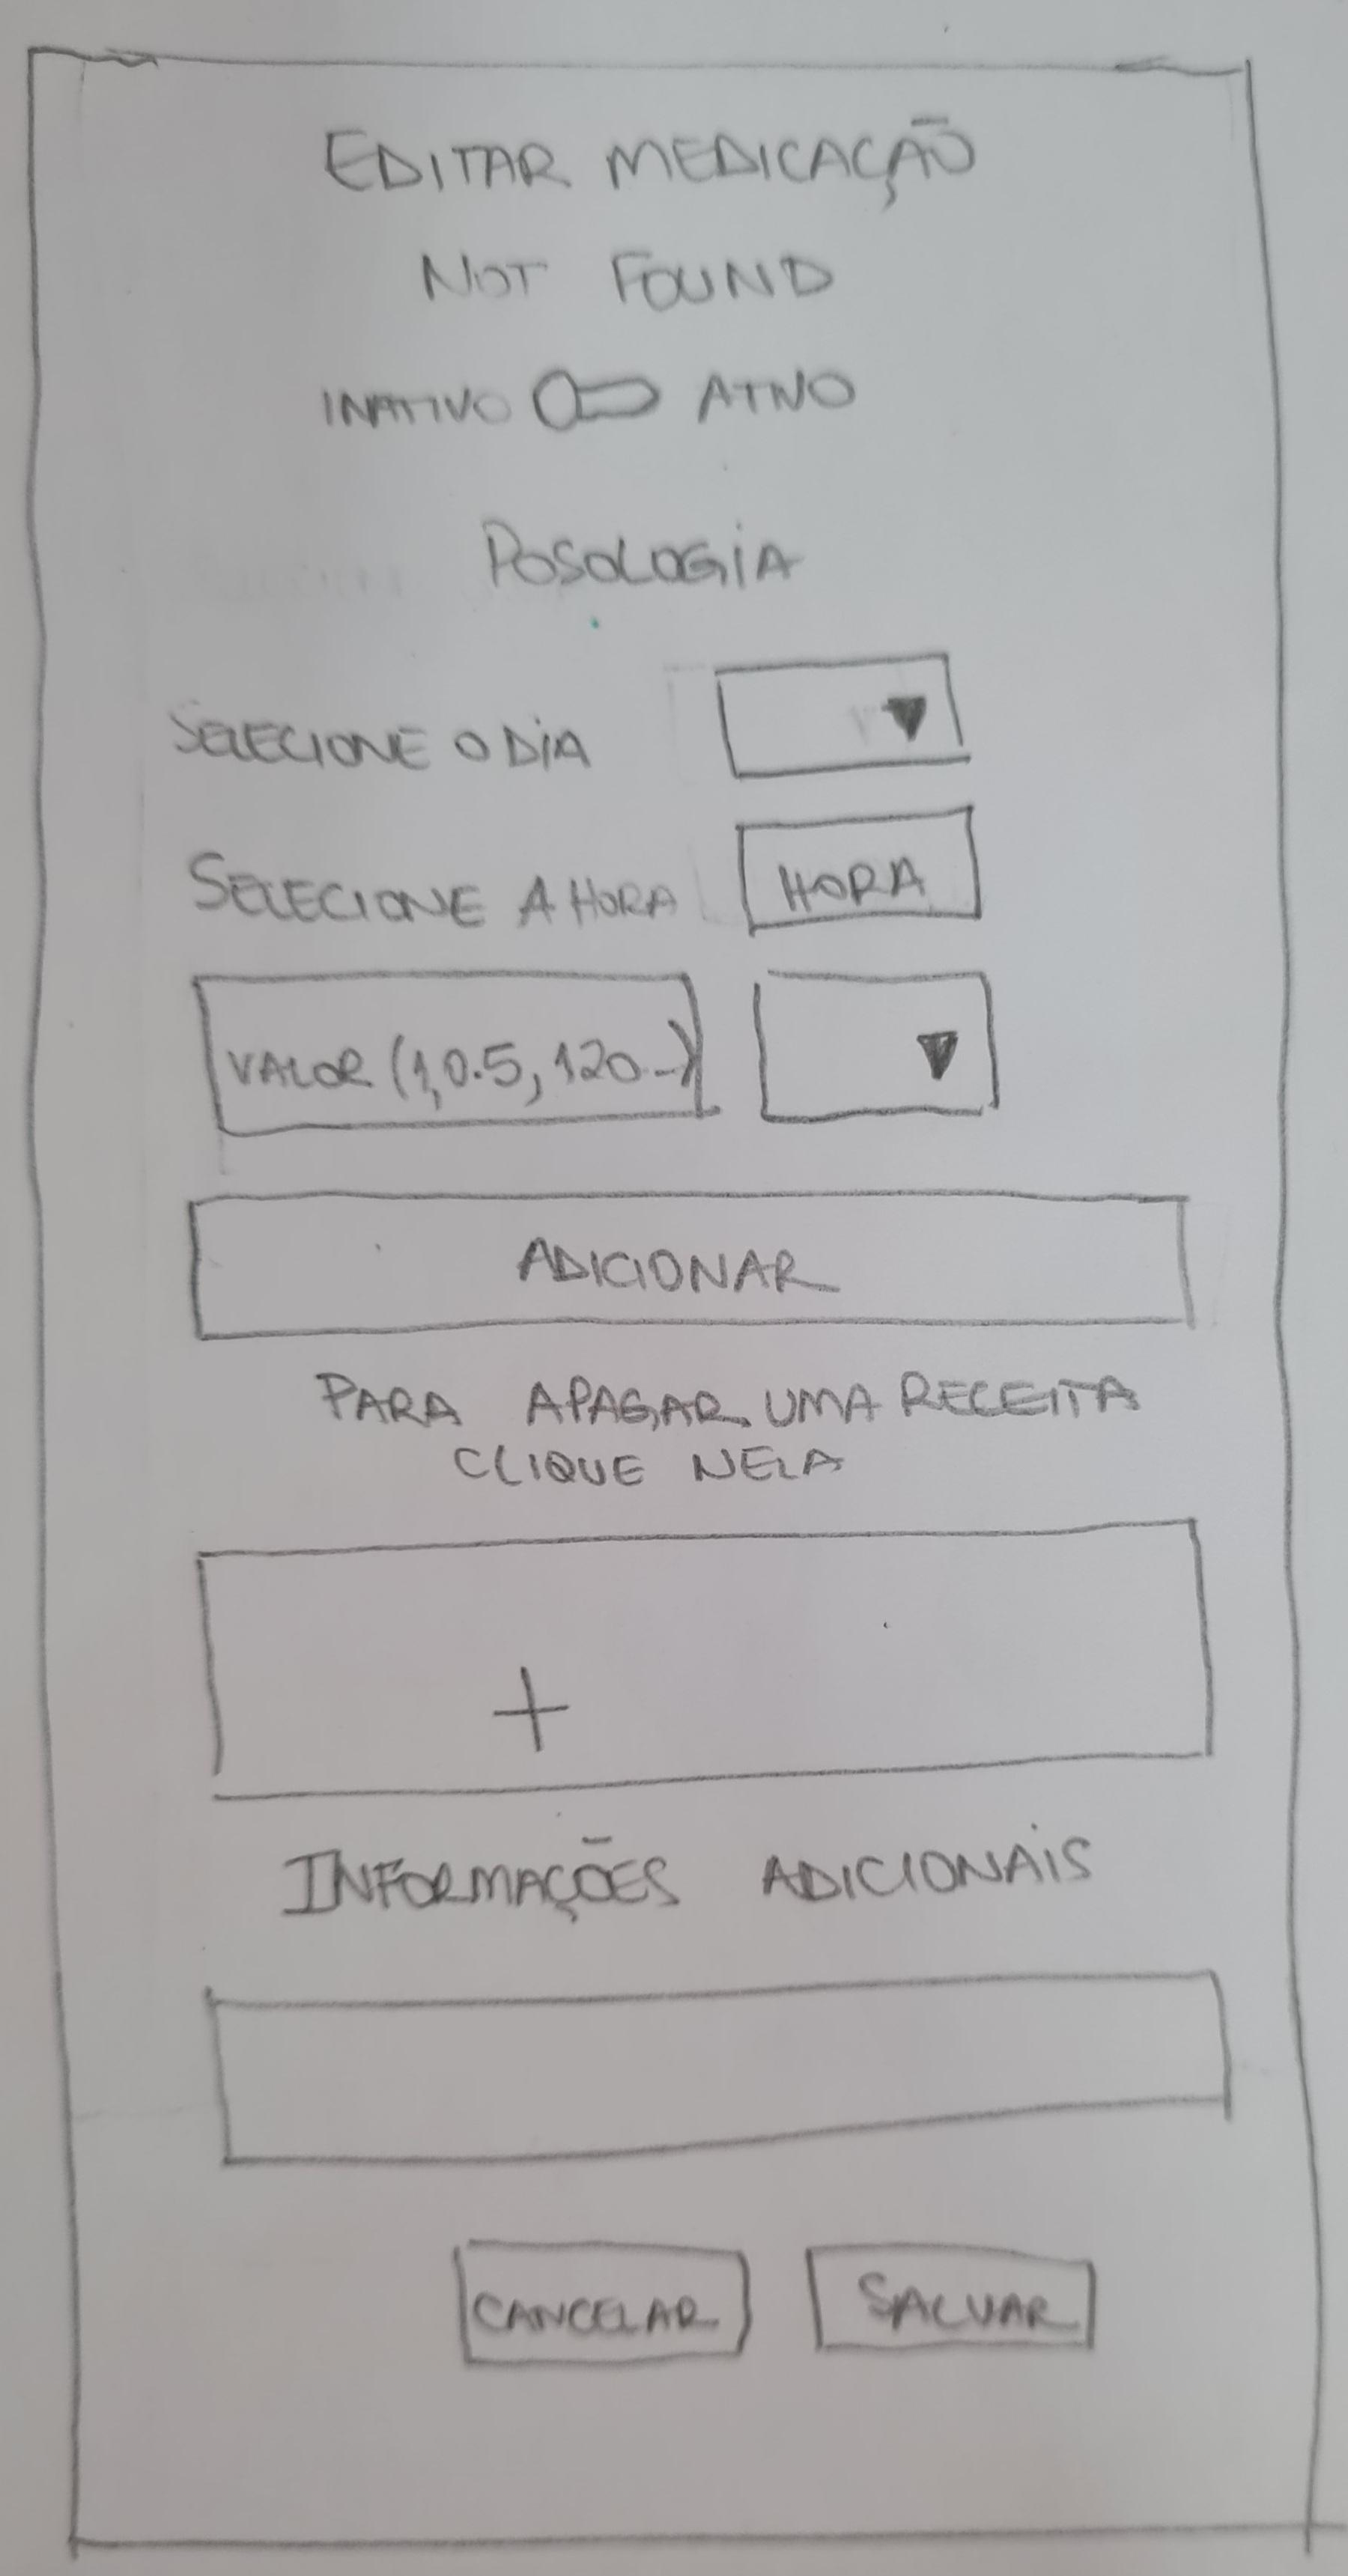Button: (187, 1189, 1198, 1339), (193, 971, 707, 1136), (452, 2237, 750, 2366), (734, 806, 983, 934), (806, 2244, 1096, 2353)
Label: (325, 114, 976, 315), (319, 1370, 1138, 1487), (281, 1825, 1089, 1915), (184, 848, 682, 930), (169, 695, 593, 770), (484, 515, 801, 589), (319, 383, 511, 431), (695, 368, 857, 423)
ListPicker: (755, 968, 1000, 1121), (716, 653, 971, 779)
Screen: (26, 41, 1326, 2547)
Switch: (530, 368, 658, 434)
TextBox: (194, 1516, 1212, 1803), (203, 1969, 1232, 2164)
